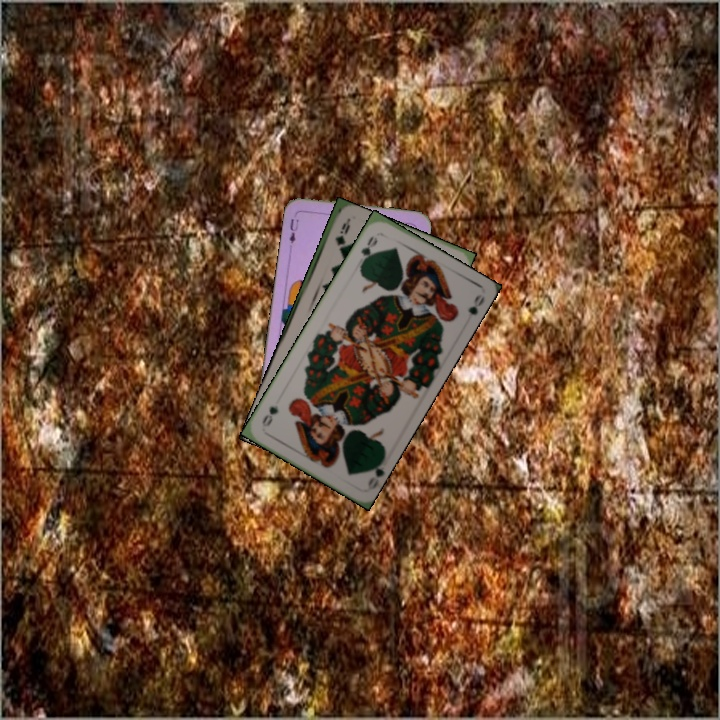EU: (285, 209, 301, 246)
G9: (331, 219, 351, 248)
GO: (363, 453, 387, 491), (357, 231, 380, 267)
